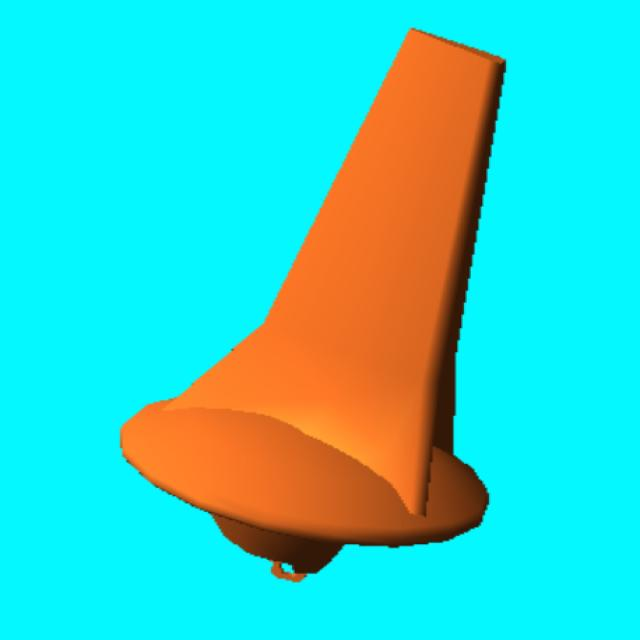OrangeBuoy: (121, 30, 504, 578)
